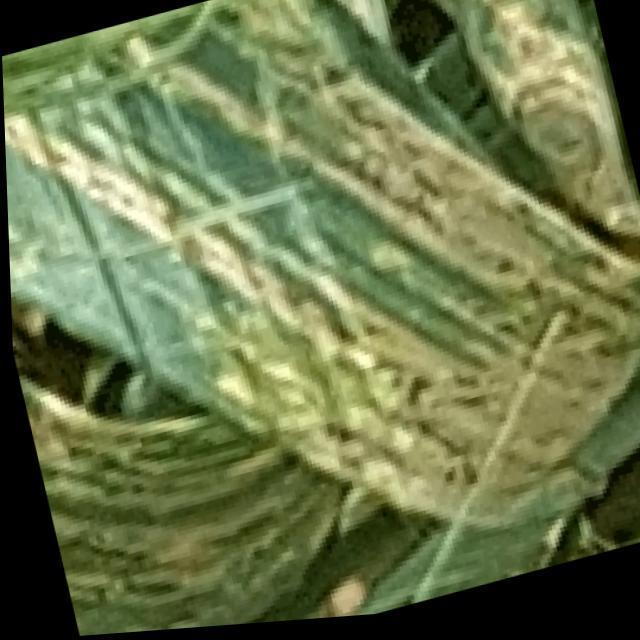Yellow_Rust: (5, 2, 638, 614)
